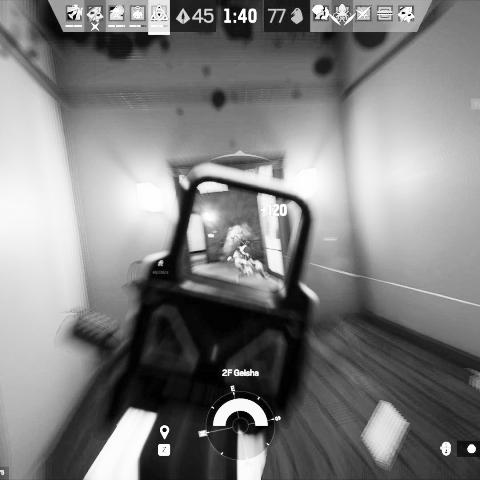Character: (225, 235, 271, 285)
Friend_label: (151, 259, 170, 275)
Head: (241, 244, 250, 255)
